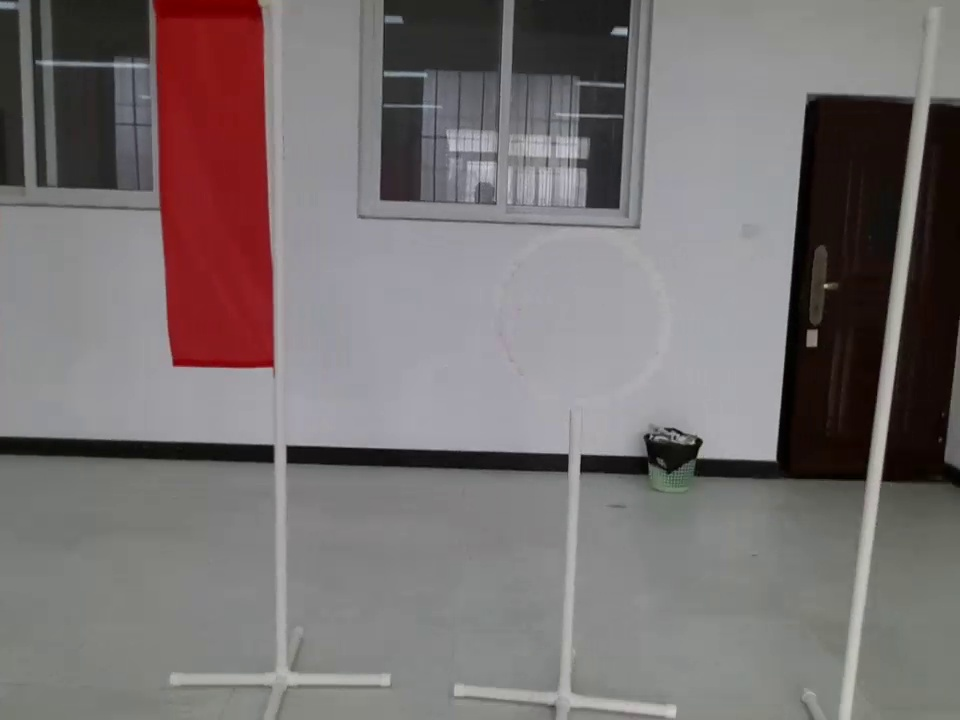gan: (844, 9, 941, 684)
qi: (131, 1, 297, 381)
quan: (490, 227, 673, 422)
